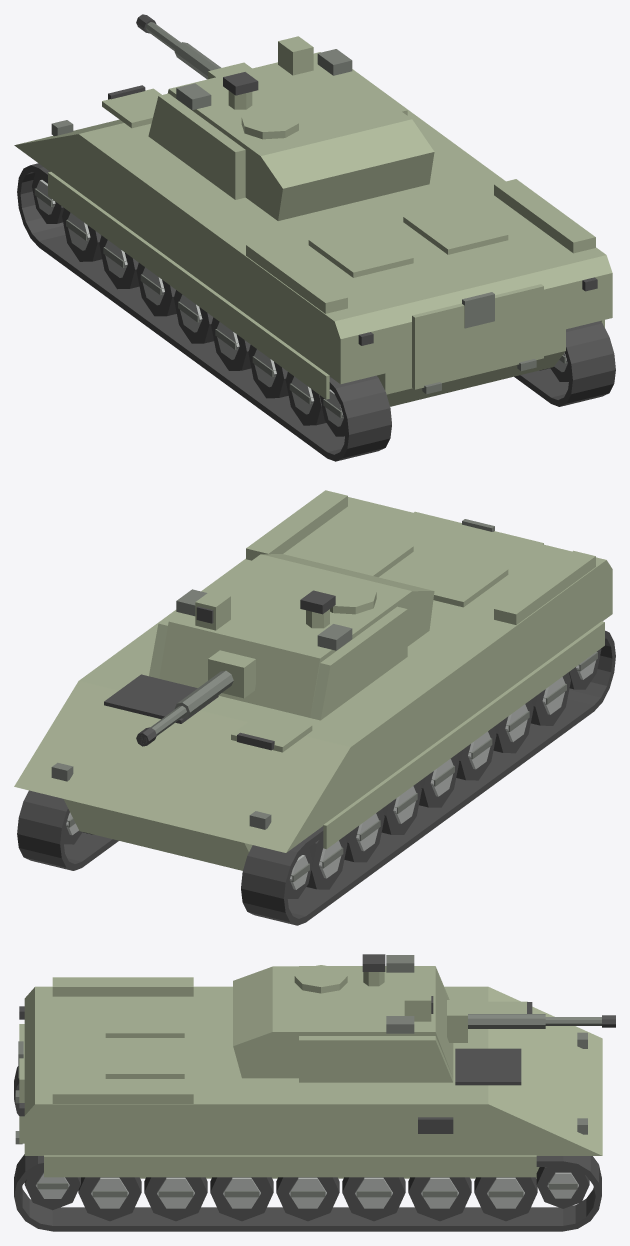
File: strf.glb
3 views of the same model, one above another, from view 1: azimuth 30°, elevation 25°; view 2: azimuth 150°, elevation 25°; view 3: azimuth 270°, elevation 25° (orthographic). The views are drawn at different scales.
Visible parts, largest first — view 1: hull, turret, gun, wheel_L_4, wheel_L_1, wheel_L_3, wheel_L_6, wheel_L_5, wheel_L_2, wheel_L_0, wheel_L_7, wheel_L_8; view 2: hull, turret, gun, wheel_L_6, wheel_L_5, wheel_L_2, wheel_L_0, wheel_L_3, wheel_L_4, wheel_L_1, wheel_L_7, wheel_L_8; view 3: hull, turret, gun, wheel_R_4, wheel_R_5, wheel_R_1, wheel_R_2, wheel_R_3, wheel_R_6, wheel_R_0, wheel_R_7, wheel_R_8.
Boxes of the visible parts, x1=… form: hull: x1=14, y1=69, x2=615, y2=461; turret: x1=148, y1=36, x2=434, y2=220; gun: x1=136, y1=14, x2=251, y2=79; wheel_L_4: x1=136, y1=263, x2=176, y2=316; wheel_L_1: x1=248, y1=345, x2=288, y2=398; wheel_L_3: x1=174, y1=290, x2=213, y2=343; wheel_L_6: x1=62, y1=208, x2=101, y2=261; wheel_L_5: x1=99, y1=235, x2=139, y2=289; wheel_L_2: x1=211, y1=317, x2=251, y2=370; wheel_L_0: x1=285, y1=372, x2=326, y2=425; wheel_L_7: x1=32, y1=173, x2=63, y2=223; wheel_L_8: x1=320, y1=388, x2=345, y2=436; hull: x1=14, y1=490, x2=615, y2=925; turret: x1=149, y1=554, x2=434, y2=720; gun: x1=136, y1=650, x2=255, y2=746; wheel_L_6: x1=306, y1=836, x2=347, y2=889; wheel_L_5: x1=344, y1=808, x2=384, y2=862; wheel_L_2: x1=456, y1=727, x2=496, y2=780; wheel_L_0: x1=531, y1=672, x2=570, y2=725; wheel_L_3: x1=419, y1=754, x2=459, y2=807; wheel_L_4: x1=381, y1=781, x2=421, y2=834; wheel_L_1: x1=493, y1=699, x2=533, y2=753; wheel_L_7: x1=287, y1=847, x2=312, y2=898; wheel_L_8: x1=569, y1=648, x2=601, y2=689; hull: x1=14, y1=977, x2=602, y2=1231; turret: x1=233, y1=954, x2=453, y2=1082; gun: x1=447, y1=1000, x2=615, y2=1042; wheel_R_4: x1=342, y1=1177, x2=405, y2=1221; wheel_R_5: x1=408, y1=1177, x2=471, y2=1221; wheel_R_1: x1=144, y1=1177, x2=207, y2=1221; wheel_R_2: x1=210, y1=1177, x2=273, y2=1221; wheel_R_3: x1=276, y1=1177, x2=339, y2=1221; wheel_R_6: x1=474, y1=1177, x2=537, y2=1221; wheel_R_0: x1=78, y1=1177, x2=141, y2=1221; wheel_R_7: x1=536, y1=1167, x2=589, y2=1208; wheel_R_8: x1=24, y1=1168, x2=80, y2=1210.
Size of the model in its own units: 3.27 by 2.48 by 6.84.
